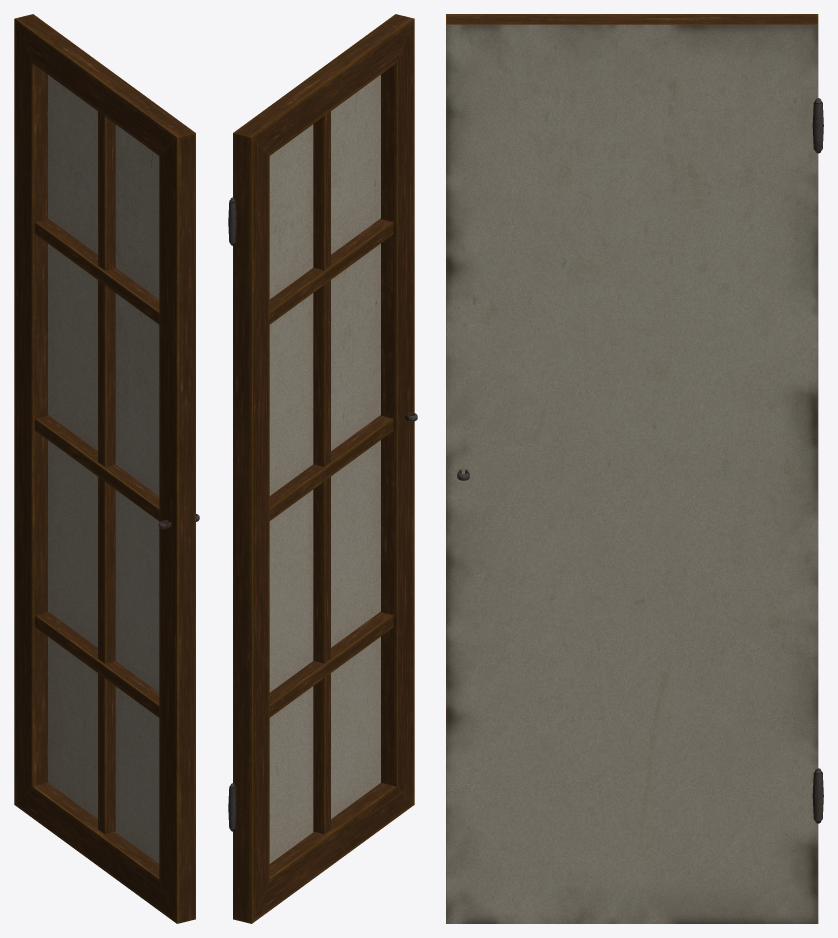
The model's file is SM_Door01h_01.fbx.
3 views of the same model, side by side, from view 1: azimuth 30°, elevation 25°; view 2: azimuth 150°, elevation 25°; view 3: azimuth 270°, elevation 25° (orthographic). The views are drawn at different scales.
Visible parts, largest first — view 1: SM_Door01h_01; view 2: SM_Door01h_01; view 3: SM_Door01h_01.
Part boxes in pixels (<box>): SM_Door01h_01: <box>14,14,199,923</box>; SM_Door01h_01: <box>228,14,417,923</box>; SM_Door01h_01: <box>446,14,823,923</box>.
Bounding box in the file's own units: 8.4 × 160 × 60.91.
1 material, 1 textured.
